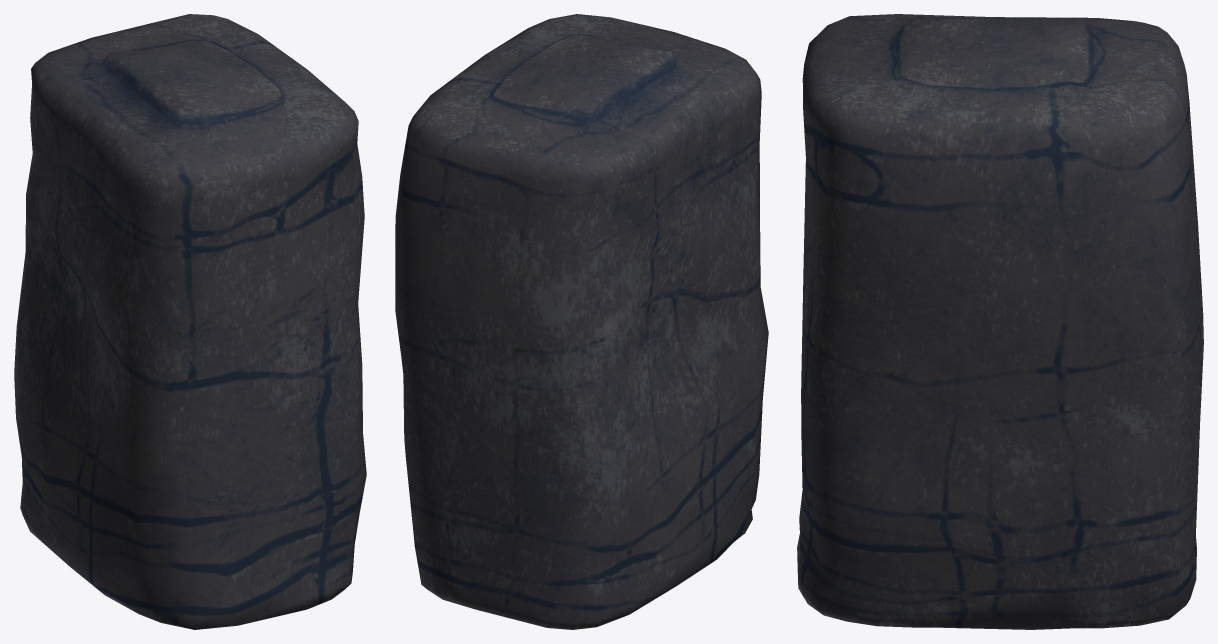
File: obstacle_grand1.obj
3 views of the same model, side by side, from view 1: azimuth 30°, elevation 25°; view 2: azimuth 150°, elevation 25°; view 3: azimuth 270°, elevation 25° (orthographic). The views are drawn at different scales.
Visible parts, largest first — view 1: obstacle_grand1.001; view 2: obstacle_grand1.001; view 3: obstacle_grand1.001.
Part boxes in pixels (<box>): obstacle_grand1.001: <box>14,14,366,629</box>; obstacle_grand1.001: <box>395,14,768,629</box>; obstacle_grand1.001: <box>797,14,1203,629</box>.
Bounding box in the file's own units: 1869 × 3434 × 2355.
1 material, 1 textured.
